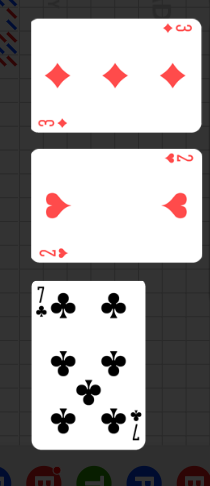2H: (163, 153, 194, 165)
7C: (34, 285, 49, 320), (128, 408, 143, 442)
